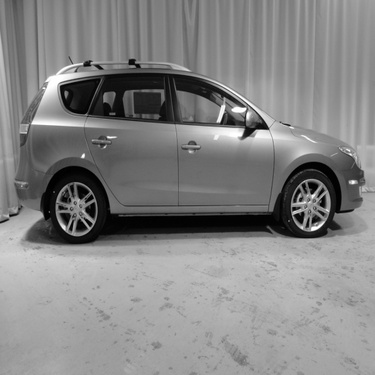car: (10, 43, 367, 247)
